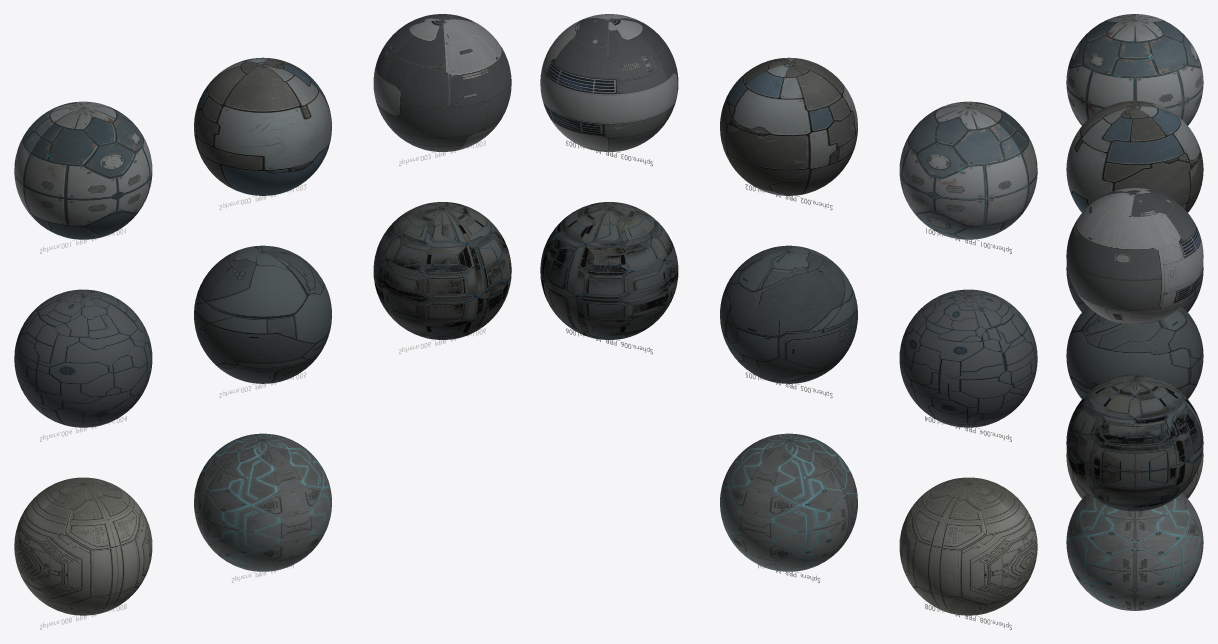
3 renders of one model, left to right at view 1: azimuth 30°, elevation 25°; view 2: azimuth 150°, elevation 25°; view 3: azimuth 270°, elevation 25°, orthographic.
Visible parts, largest first — view 1: Sphere.008_PBR_Material.008__r2_c0, Sphere.001_PBR_Material.001__r0_c0, Sphere.004_PBR_Material.004__r1_c0, Sphere.006_PBR_Material.006__r1_c2, Sphere.003_PBR_Material.003__r0_c2, Sphere_PBR_Material__r2_c1, Sphere.005_PBR_Material.005__r1_c1, Sphere.002_PBR_Material.002__r0_c1; view 2: Sphere.008_PBR_Material.008__r2_c0, Sphere.001_PBR_Material.001__r0_c0, Sphere.004_PBR_Material.004__r1_c0, Sphere.006_PBR_Material.006__r1_c2, Sphere.003_PBR_Material.003__r0_c2, Sphere_PBR_Material__r2_c1, Sphere.005_PBR_Material.005__r1_c1, Sphere.002_PBR_Material.002__r0_c1; view 3: Sphere.006_PBR_Material.006__r1_c2, Sphere.003_PBR_Material.003__r0_c2, Sphere_PBR_Material__r2_c1, Sphere.001_PBR_Material.001__r0_c0, Sphere.002_PBR_Material.002__r0_c1, Sphere.005_PBR_Material.005__r1_c1, Sphere.004_PBR_Material.004__r1_c0, Sphere.008_PBR_Material.008__r2_c0.
Part boxes in pixels (x1,y1,x2,y2): Sphere.008_PBR_Material.008__r2_c0: [14, 477, 152, 615]; Sphere.001_PBR_Material.001__r0_c0: [14, 101, 152, 239]; Sphere.004_PBR_Material.004__r1_c0: [14, 289, 152, 427]; Sphere.006_PBR_Material.006__r1_c2: [373, 202, 511, 339]; Sphere.003_PBR_Material.003__r0_c2: [373, 14, 511, 151]; Sphere_PBR_Material__r2_c1: [194, 433, 331, 571]; Sphere.005_PBR_Material.005__r1_c1: [194, 245, 331, 383]; Sphere.002_PBR_Material.002__r0_c1: [194, 57, 331, 195]; Sphere.008_PBR_Material.008__r2_c0: [899, 477, 1037, 615]; Sphere.001_PBR_Material.001__r0_c0: [899, 101, 1037, 239]; Sphere.004_PBR_Material.004__r1_c0: [899, 289, 1037, 427]; Sphere.006_PBR_Material.006__r1_c2: [540, 202, 678, 339]; Sphere.003_PBR_Material.003__r0_c2: [540, 14, 678, 151]; Sphere_PBR_Material__r2_c1: [720, 433, 857, 571]; Sphere.005_PBR_Material.005__r1_c1: [720, 245, 857, 383]; Sphere.002_PBR_Material.002__r0_c1: [720, 57, 857, 195]; Sphere.006_PBR_Material.006__r1_c2: [1066, 374, 1203, 511]; Sphere.003_PBR_Material.003__r0_c2: [1066, 188, 1203, 324]; Sphere_PBR_Material__r2_c1: [1066, 493, 1203, 610]; Sphere.001_PBR_Material.001__r0_c0: [1066, 14, 1203, 125]; Sphere.002_PBR_Material.002__r0_c1: [1066, 101, 1203, 212]; Sphere.005_PBR_Material.005__r1_c1: [1066, 306, 1203, 398]; Sphere.004_PBR_Material.004__r1_c0: [1066, 263, 1203, 311]; Sphere.008_PBR_Material.008__r2_c0: [1066, 450, 1203, 498].
Size of the model in its own units: 8 by 8.17 by 2.
Materials: 9 (8 with a texture image).
